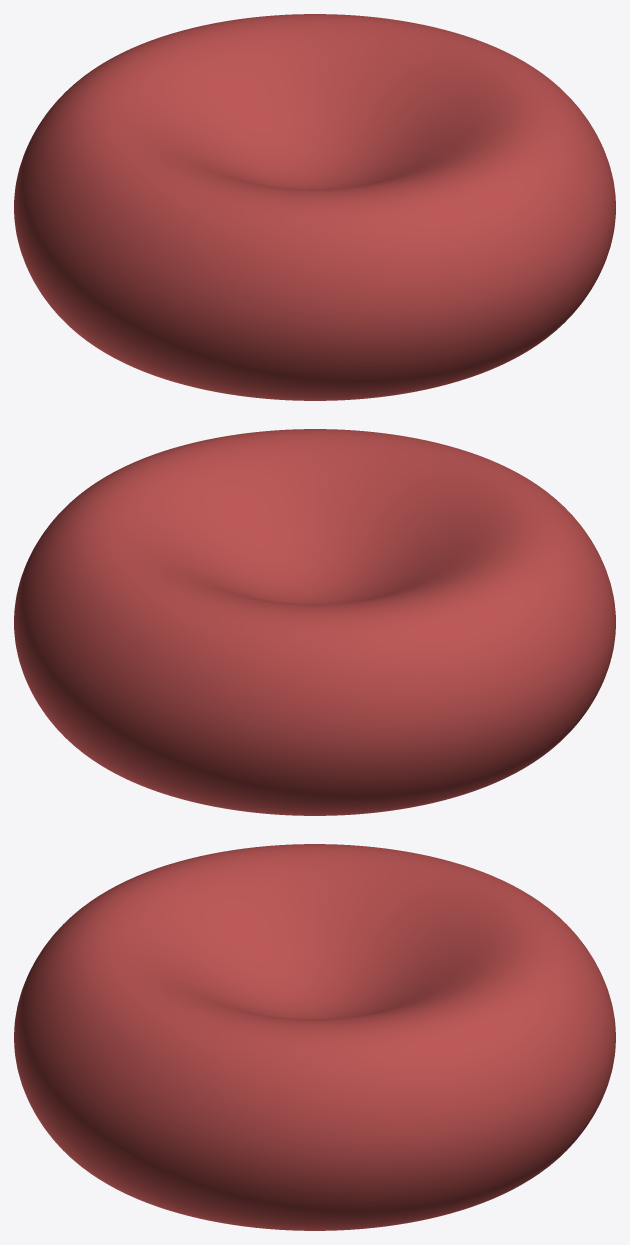
Rendered from red-blood-cell.glb.
3 views of the same model, one above another, from view 1: azimuth 30°, elevation 25°; view 2: azimuth 150°, elevation 25°; view 3: azimuth 270°, elevation 25° (orthographic).
Visible parts, largest first — view 1: membrane.001; view 2: membrane.001; view 3: membrane.001.
Boxes of the visible parts, bbox=[...] form: membrane.001: bbox=[14, 14, 615, 400]; membrane.001: bbox=[14, 429, 615, 815]; membrane.001: bbox=[14, 844, 615, 1230].
Bounding box in the file's own units: 5.6 × 2 × 5.6.
